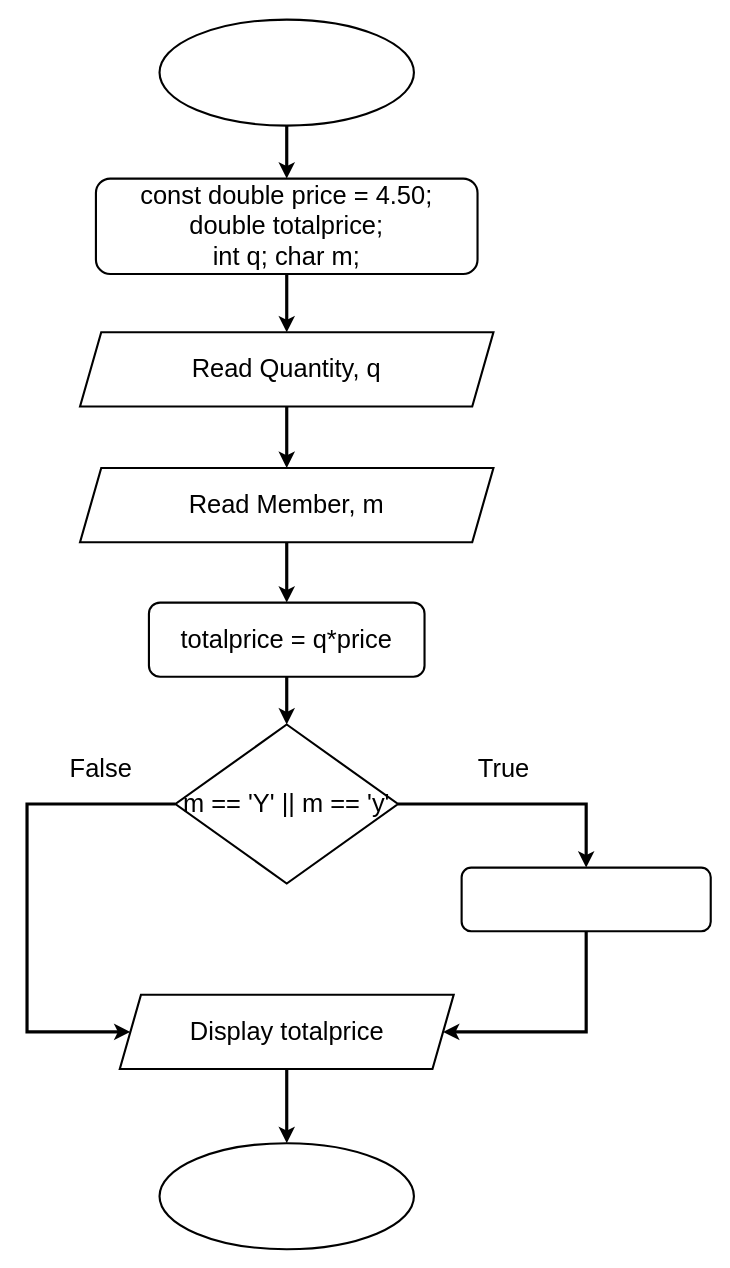
The diagram is 730 pixels wide and 1268 high, and some of its shapes have lost their labels. Each missing label, with the centre of its shape:
"Start" belongs at pixel 286 72.
"Stop" belongs at pixel 286 1196.
"totalprice *= 0.9" belongs at pixel 585 899.
